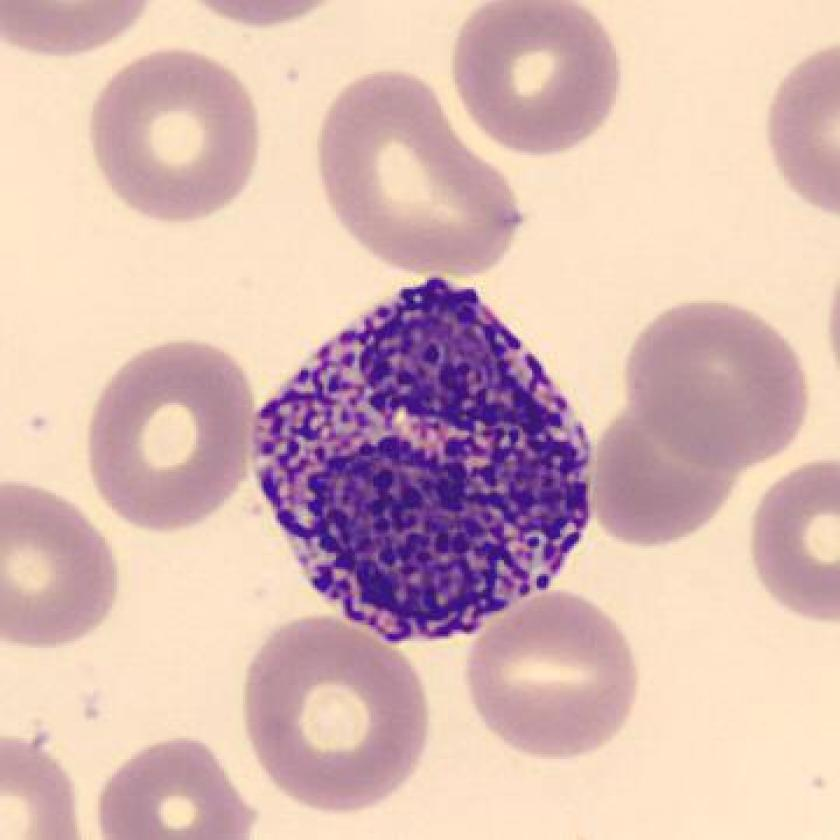basophil: (246, 274, 605, 656)
